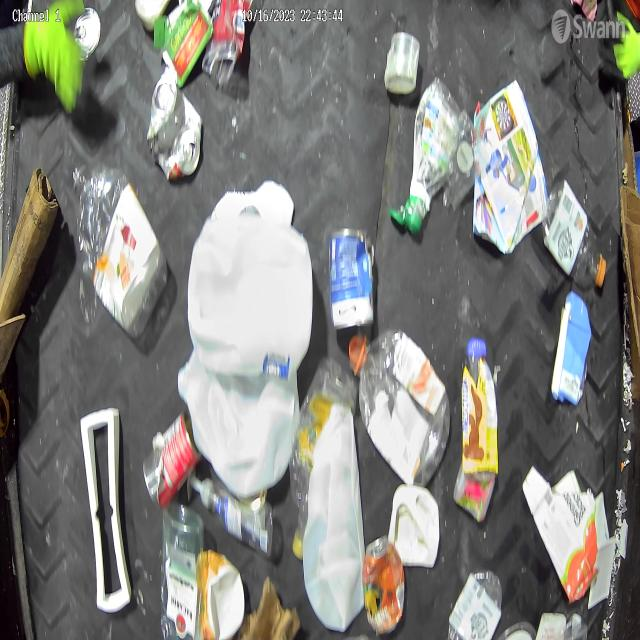can: (148, 70, 202, 186), (144, 413, 200, 509), (328, 226, 377, 334), (363, 534, 405, 637)
milk_jug: (185, 185, 315, 378), (176, 344, 300, 495), (301, 400, 365, 633)
plastic_bottle: (68, 159, 169, 338), (353, 328, 451, 486), (542, 178, 610, 290), (447, 568, 504, 640)
